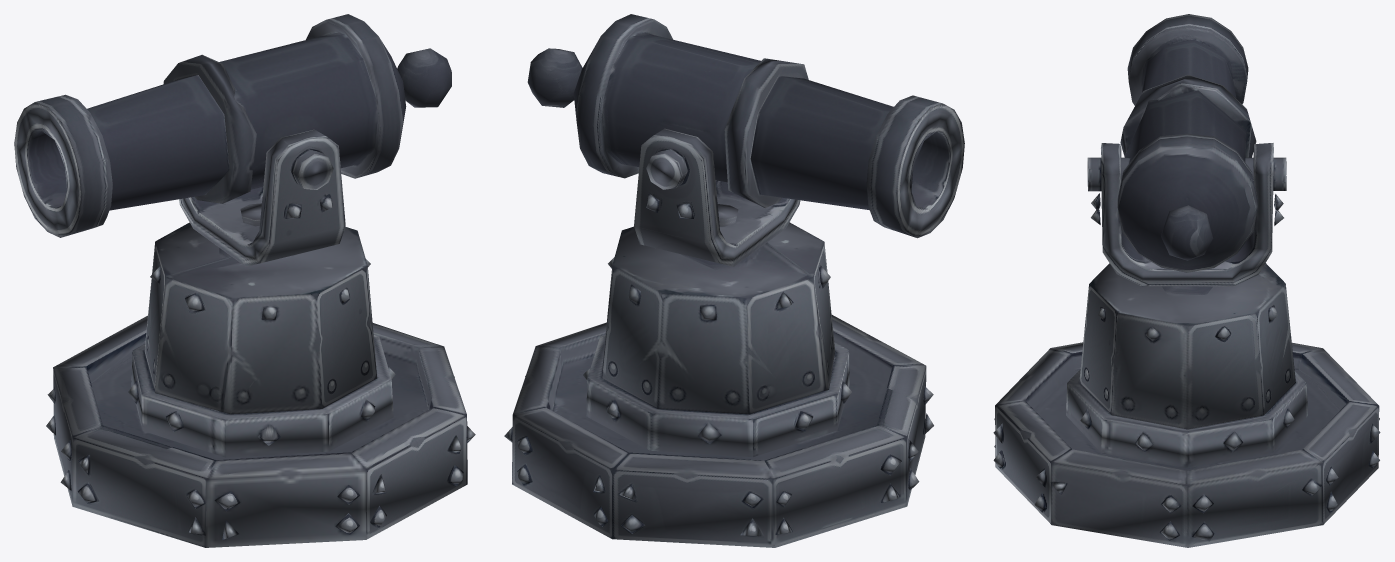
File: meshy-chunky-iron-1000.glb
3 views of the same model, side by side, from view 1: azimuth 30°, elevation 25°; view 2: azimuth 150°, elevation 25°; view 3: azimuth 270°, elevation 25° (orthographic). The views are drawn at different scales.
Size of the model in its own units: 1 by 1 by 0.9491.
1 material, 1 textured.
